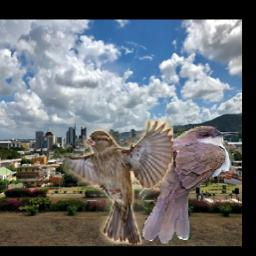Cuckoo: (138, 125, 239, 244)
Sparrow: (36, 119, 174, 244)
